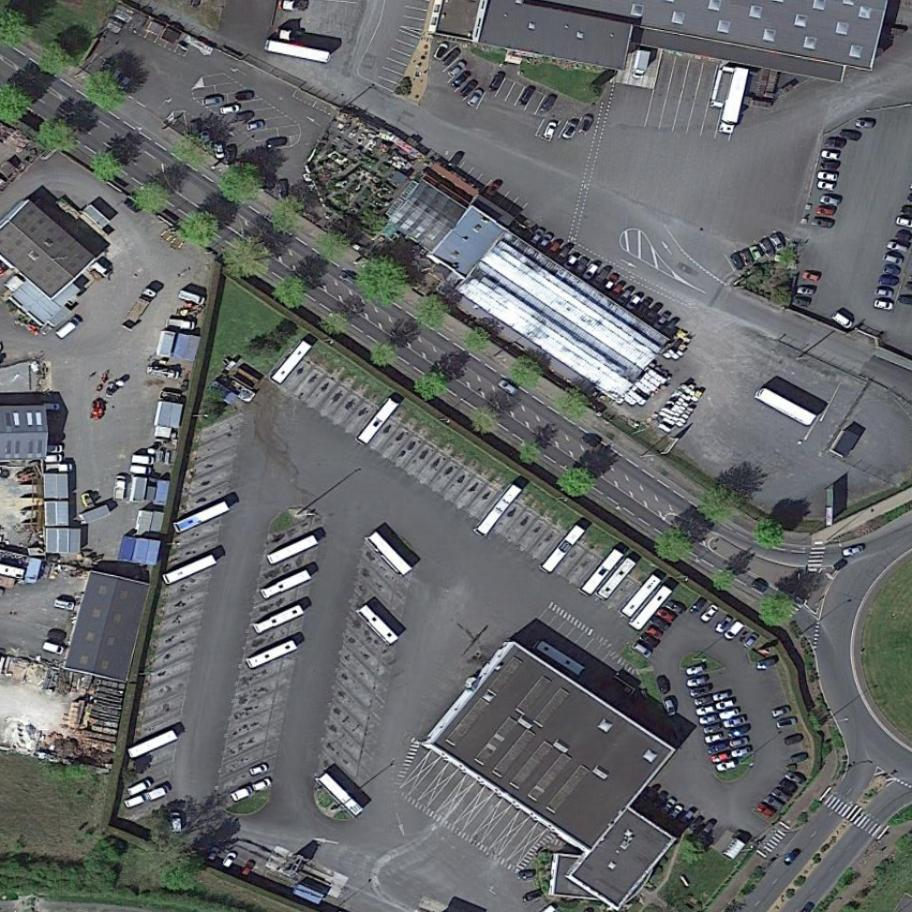large-vehicle: (474, 483, 522, 539), (754, 387, 817, 428), (540, 522, 586, 576), (316, 772, 364, 819), (580, 547, 624, 598), (629, 584, 673, 633), (369, 530, 413, 577), (358, 398, 400, 447), (120, 284, 160, 335), (720, 67, 749, 137), (621, 573, 662, 621), (173, 500, 230, 534), (595, 557, 637, 603), (356, 604, 399, 647), (163, 554, 218, 587), (245, 639, 299, 672), (272, 341, 312, 385), (253, 604, 305, 636), (260, 569, 312, 601), (267, 535, 319, 567), (265, 40, 330, 63), (128, 730, 177, 760), (178, 289, 207, 307), (112, 474, 129, 502), (166, 319, 197, 332), (45, 463, 74, 472)
small-vehicle: (55, 314, 83, 342), (515, 82, 539, 111), (722, 618, 747, 643), (480, 178, 504, 204), (599, 271, 623, 297), (588, 266, 612, 292), (569, 254, 593, 280), (142, 783, 170, 805), (630, 297, 654, 322), (449, 69, 474, 92), (485, 70, 507, 96), (829, 311, 855, 333), (126, 777, 153, 798), (538, 91, 560, 116), (465, 85, 487, 110), (640, 301, 662, 326), (700, 602, 723, 625), (552, 243, 574, 267), (458, 77, 480, 101), (614, 285, 636, 309), (648, 613, 672, 635), (623, 291, 644, 316), (714, 613, 736, 636), (607, 279, 628, 303), (498, 378, 522, 399), (580, 260, 600, 285), (441, 46, 463, 68), (527, 226, 548, 249), (688, 595, 709, 618), (230, 785, 254, 805), (630, 640, 654, 660), (446, 60, 468, 81), (560, 119, 580, 142), (638, 631, 661, 651), (577, 114, 596, 138), (250, 775, 274, 794), (338, 269, 360, 289), (698, 819, 718, 841), (652, 311, 672, 333), (664, 598, 686, 618), (220, 848, 239, 871), (541, 118, 559, 142), (726, 724, 753, 740), (41, 639, 66, 656), (754, 655, 779, 672), (544, 238, 564, 259), (90, 260, 111, 280), (560, 252, 580, 273), (771, 786, 792, 806), (677, 808, 697, 829), (782, 846, 803, 866), (536, 231, 555, 253), (768, 231, 787, 253), (762, 794, 784, 813), (433, 41, 451, 64), (688, 813, 707, 834), (659, 797, 678, 818), (659, 316, 678, 337), (742, 630, 761, 651), (124, 793, 147, 810), (722, 715, 748, 730), (703, 719, 727, 735), (757, 238, 776, 258), (779, 776, 799, 795), (581, 432, 601, 451), (644, 624, 664, 643), (783, 770, 804, 788), (771, 703, 794, 719), (686, 674, 712, 688), (217, 102, 241, 117), (776, 715, 800, 730), (731, 745, 755, 760), (715, 759, 739, 774), (704, 730, 728, 745), (842, 544, 866, 559), (756, 803, 776, 821), (668, 804, 686, 824), (651, 791, 669, 811), (641, 786, 659, 806), (690, 683, 714, 698), (657, 606, 677, 624), (240, 858, 257, 879), (523, 888, 545, 904), (820, 193, 842, 209), (811, 217, 836, 231), (708, 740, 731, 755), (739, 249, 756, 269), (168, 812, 184, 833), (790, 750, 811, 766), (783, 732, 804, 748), (54, 598, 76, 613), (693, 694, 715, 709), (129, 464, 154, 477), (266, 134, 289, 148), (234, 109, 257, 123), (887, 240, 910, 254), (719, 707, 742, 721), (711, 750, 734, 764), (696, 703, 717, 718), (663, 697, 678, 718), (131, 454, 155, 467), (751, 578, 769, 595), (730, 251, 746, 270), (657, 676, 673, 695), (233, 90, 256, 103), (818, 171, 841, 184), (245, 118, 266, 132), (825, 137, 846, 151), (882, 252, 903, 266), (833, 557, 851, 573), (247, 763, 269, 776), (840, 129, 862, 142), (699, 713, 721, 726), (206, 845, 221, 864), (716, 698, 736, 712), (713, 689, 733, 703), (226, 145, 239, 166), (821, 159, 842, 172), (856, 118, 877, 131), (873, 298, 894, 311), (212, 141, 226, 160), (518, 868, 540, 880), (729, 736, 751, 748), (278, 179, 291, 199), (200, 123, 212, 144), (821, 149, 842, 161), (878, 275, 900, 286), (817, 180, 837, 192), (793, 296, 813, 308), (817, 206, 837, 218), (686, 665, 706, 677), (750, 246, 764, 263), (884, 263, 902, 276), (43, 444, 64, 455), (203, 95, 224, 106), (874, 286, 893, 298), (803, 271, 821, 283), (46, 433, 68, 442), (797, 287, 816, 297), (43, 454, 62, 463), (43, 403, 61, 411)
